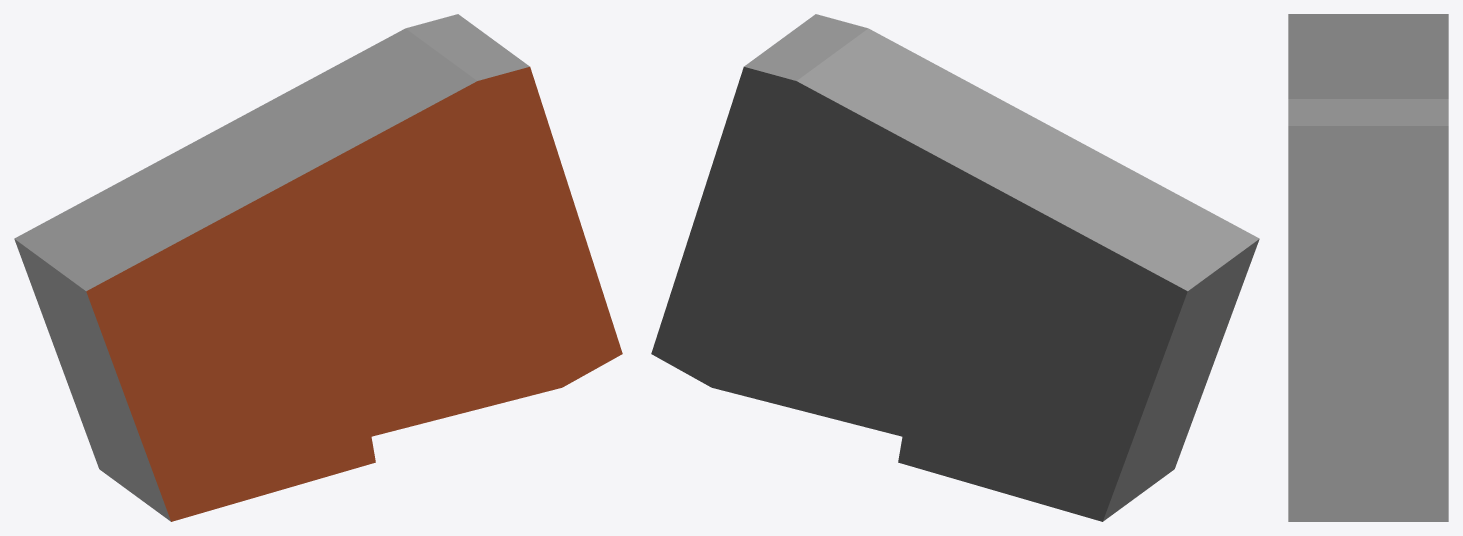
Rendered from construction_3184_assumed_A_Casa_h6m.obj.
3 views of the same model, side by side, from view 1: azimuth 30°, elevation 25°; view 2: azimuth 150°, elevation 25°; view 3: azimuth 270°, elevation 25° (orthographic). The views are drawn at different scales.
Visible parts, largest first — view 1: construction_3184_assumed_A_Casa; view 2: construction_3184_assumed_A_Casa; view 3: construction_3184_assumed_A_Casa.
Boxes of the visible parts, x1,y1,x2,y2 form: construction_3184_assumed_A_Casa: (14,14,622,521); construction_3184_assumed_A_Casa: (651,14,1259,521); construction_3184_assumed_A_Casa: (1288,14,1448,521).
Bounding box in the file's own units: 25.82 × 16.91 × 6.
